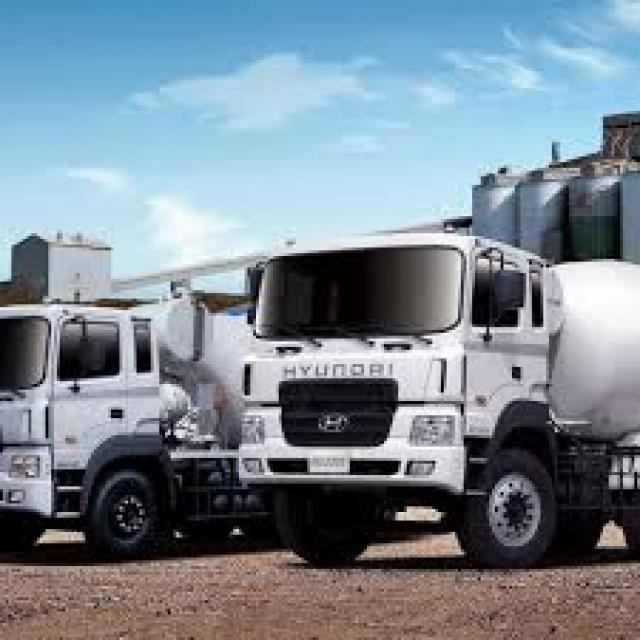Mixer Truck: (235, 229, 640, 565), (0, 290, 296, 558)
